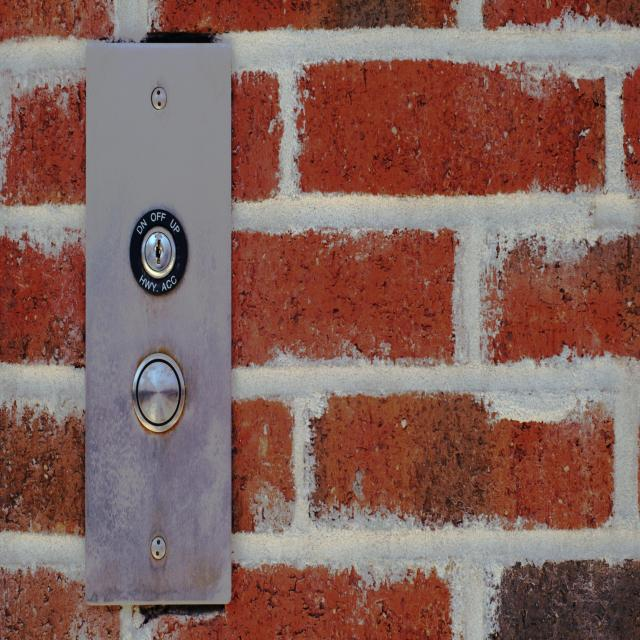empty: (131, 350, 185, 432)
keyhole: (130, 208, 187, 296)
